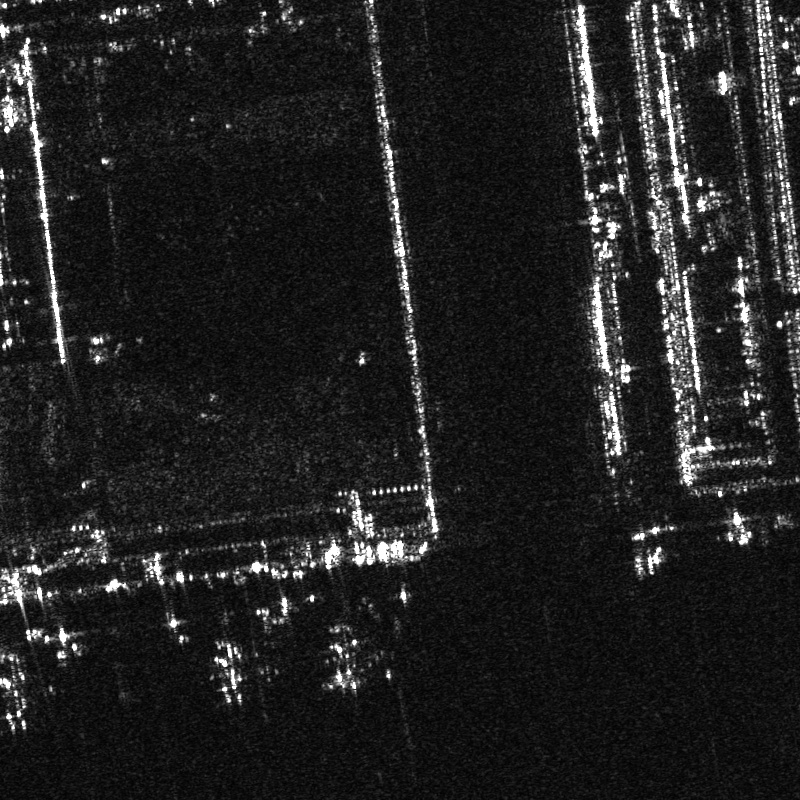Boeing787: (195, 632, 264, 705), (317, 623, 376, 693)
